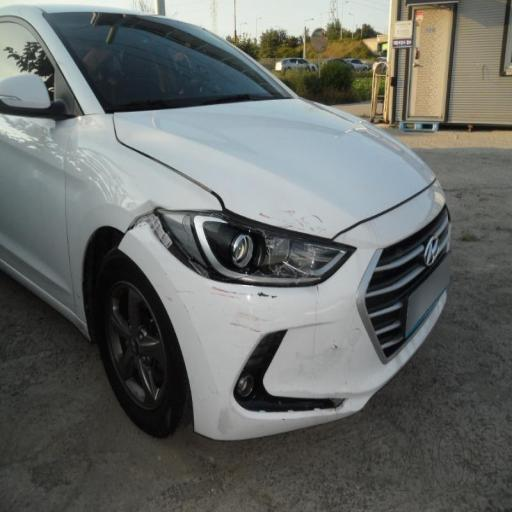broken: (68, 136, 189, 324)
scratch: (250, 177, 370, 384)
